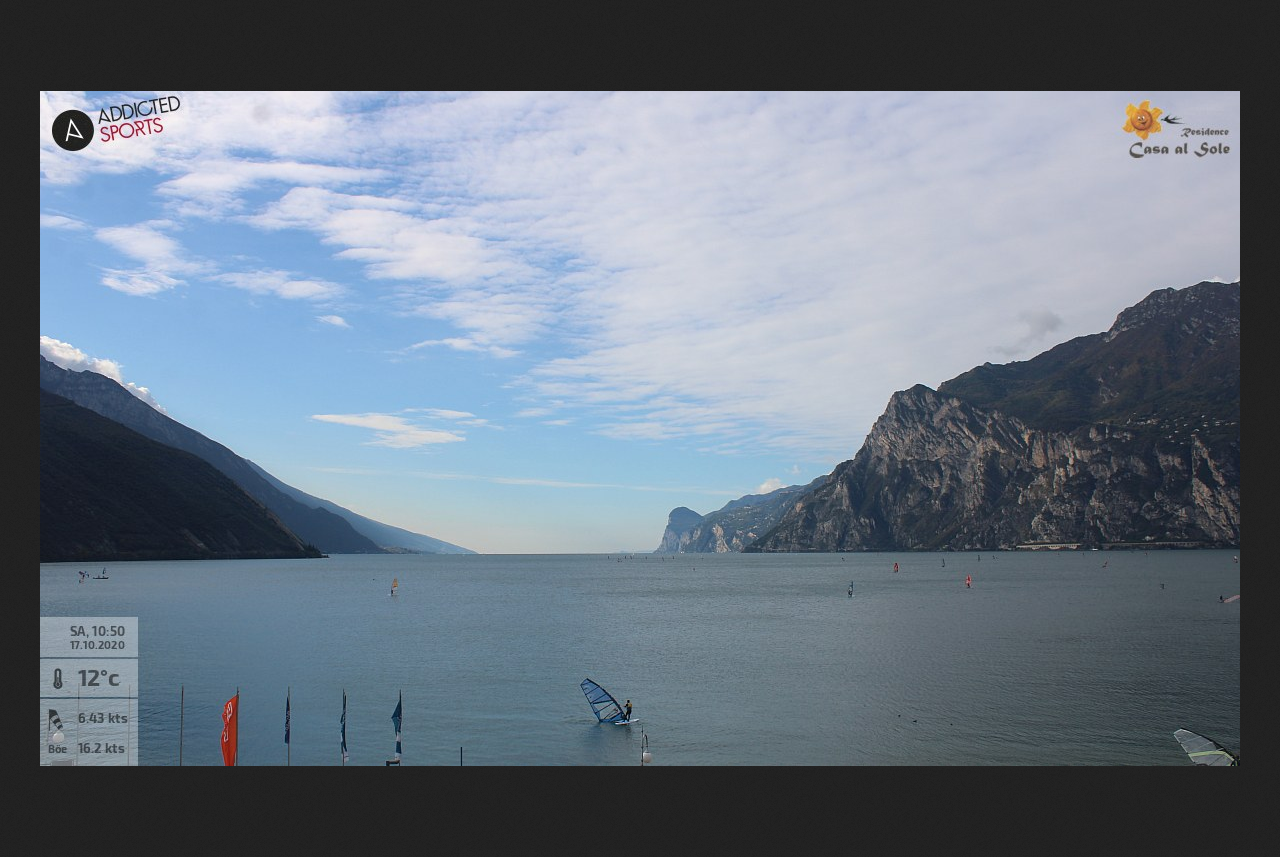no: (333, 693, 358, 758), (386, 694, 409, 761), (277, 690, 294, 744)
